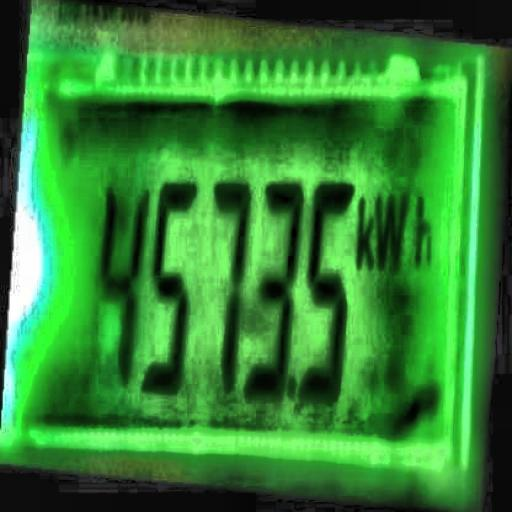DISPLAY_REGION: (0, 31, 489, 471)
SERIAL_REGION: (64, 157, 415, 418)
